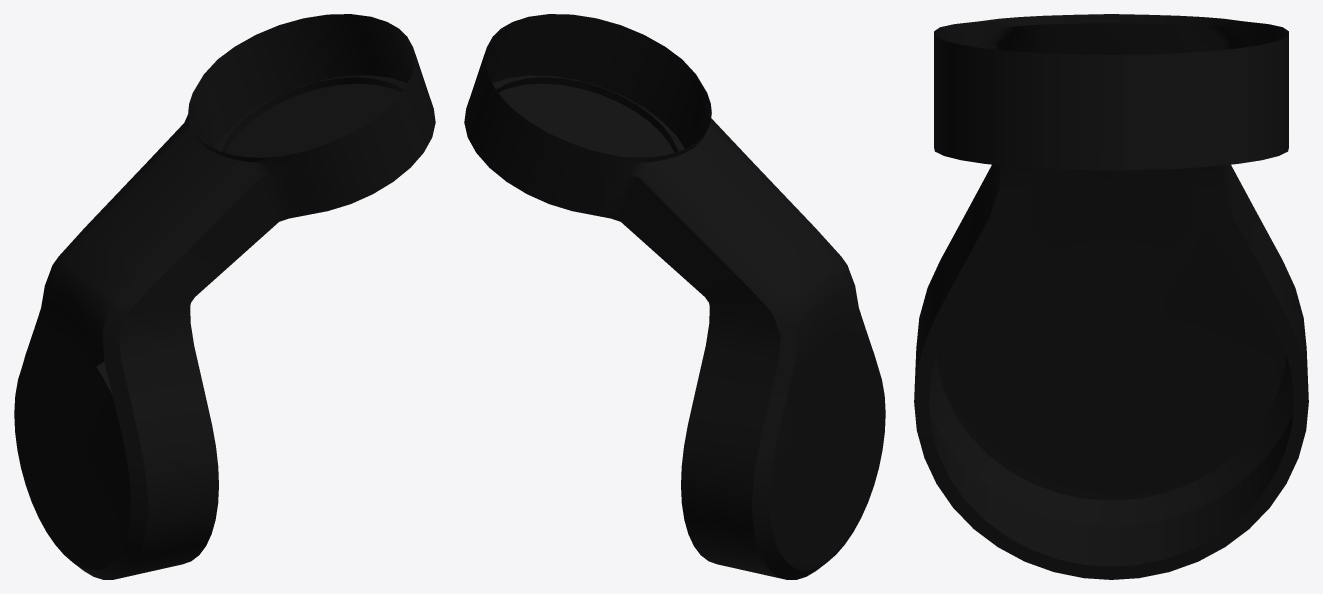
The model's file is gimbal_0.dae.
3 renders of one model, left to right at view 1: azimuth 30°, elevation 25°; view 2: azimuth 150°, elevation 25°; view 3: azimuth 270°, elevation 25°, orthographic. The views are drawn at different scales.
Visible parts, largest first — view 1: JT_03.001, JT_05.001; view 2: JT_03.001, JT_05.001; view 3: JT_03.001, JT_05.001.
Boxes of the visible parts, bbox=[...] form: JT_03.001: bbox=[14, 14, 435, 579]; JT_05.001: bbox=[221, 77, 403, 157]; JT_03.001: bbox=[464, 14, 885, 579]; JT_05.001: bbox=[496, 77, 678, 157]; JT_03.001: bbox=[914, 14, 1308, 579]; JT_05.001: bbox=[1031, 168, 1191, 246].
Size of the model in its own units: 0.0362 by 0.0236 by 0.0465.
Materials: 1 (1 with a texture image).
